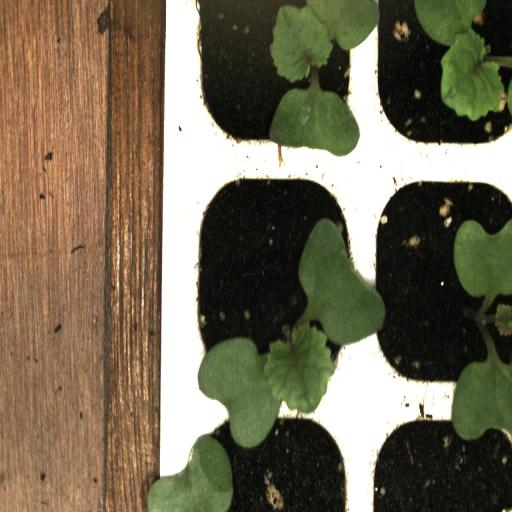Folha: (413, 0, 512, 122), (453, 219, 512, 303)
Germinacao: (179, 163, 365, 405), (179, 0, 366, 163)
